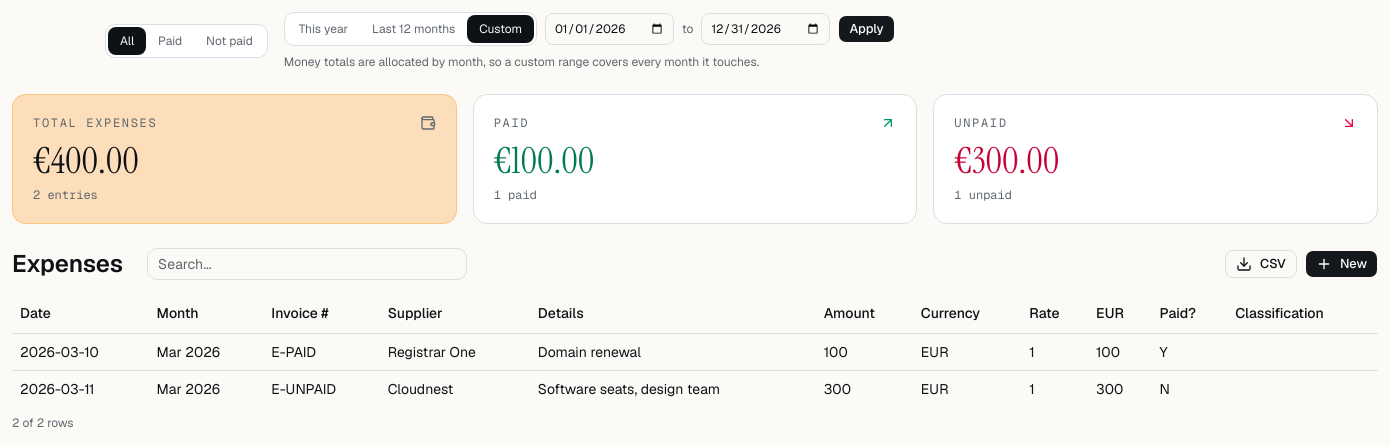
Expenses paid filter › shows only the unpaid ones under Not paid
The width and height of the screenshot is (1390, 445).
Step 1. Click the button "Not paid" → {"x": 229, "y": 41}, box top-left (194, 27), bottom-right (265, 55)
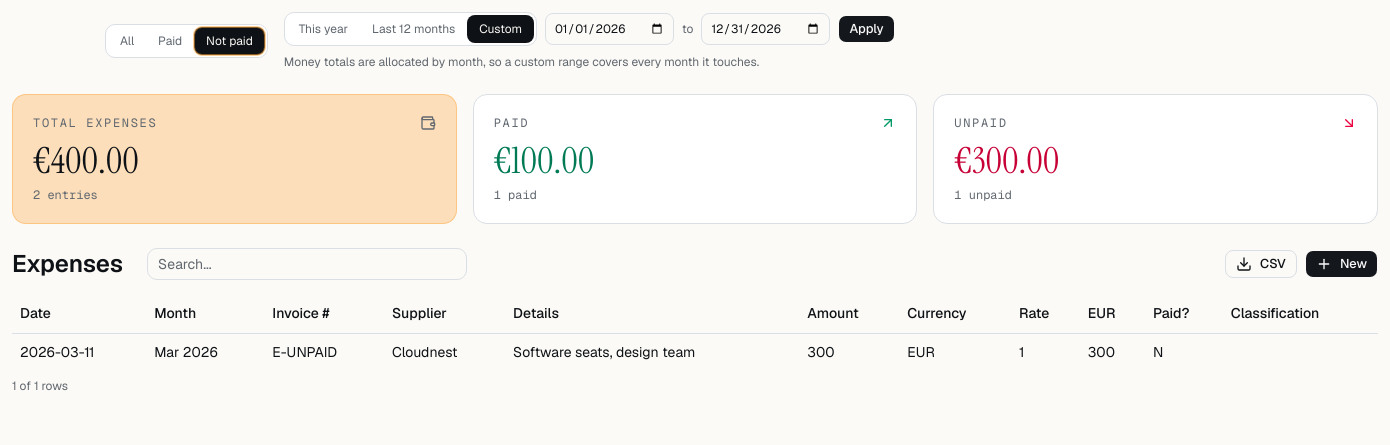
Expected: the text "E-UNPAID" is shown, top-left (264, 333), bottom-right (384, 370)
Now the text "E-PAID" is gone
